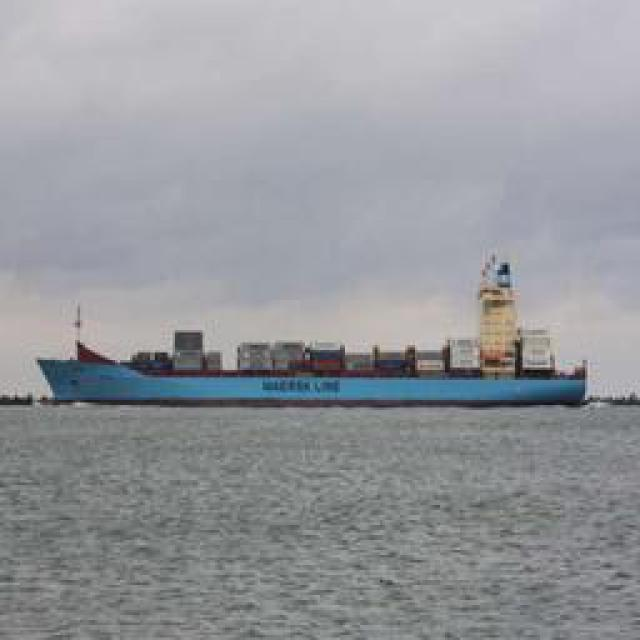Ship: (36, 312, 604, 410)
